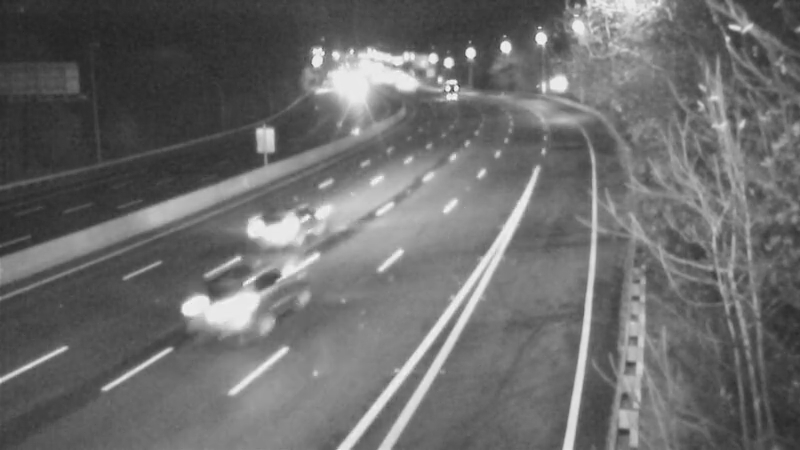vehicle: (191, 251, 301, 361), (243, 183, 323, 263), (424, 71, 474, 121)
